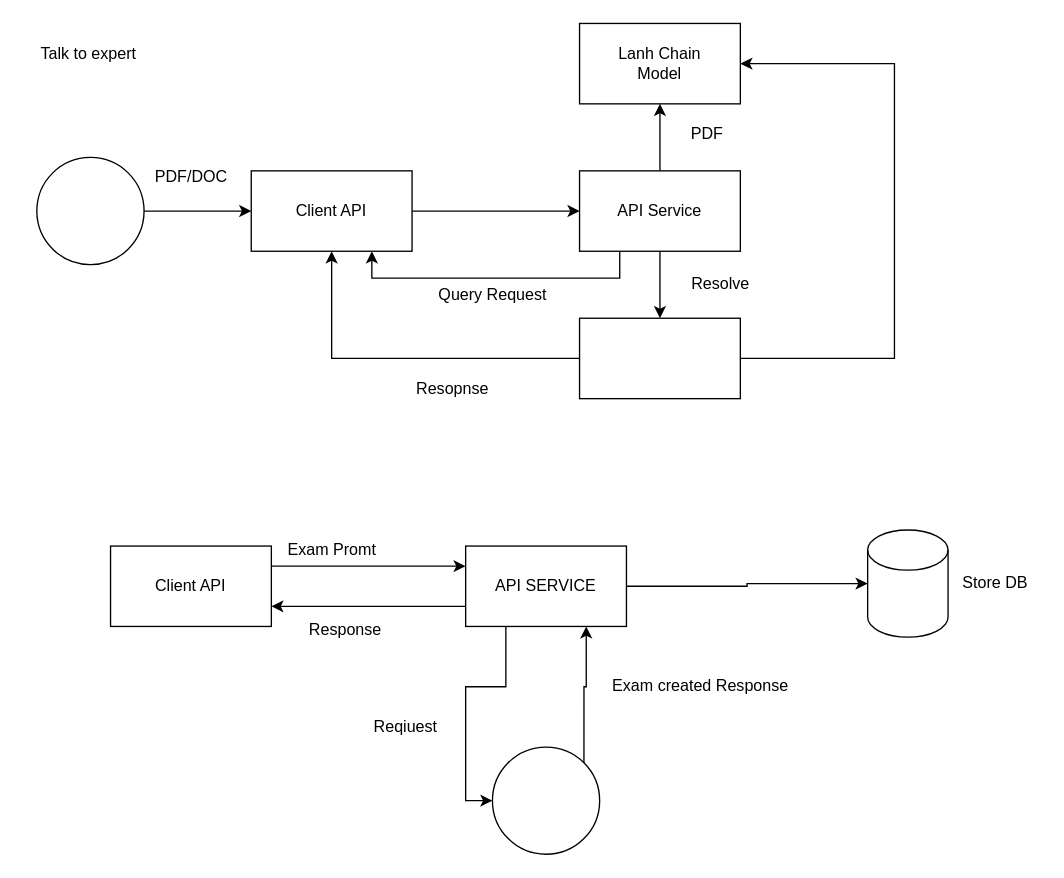
Some shapes in this 1064 by 878 pixel diagram are drawn without their labels. Each missing label, with the centre of its shape:
"OPEN AI Service" belongs at [545,800].
"Store Vector DB" belongs at [659,358].
"USER" belongs at [90,210].
